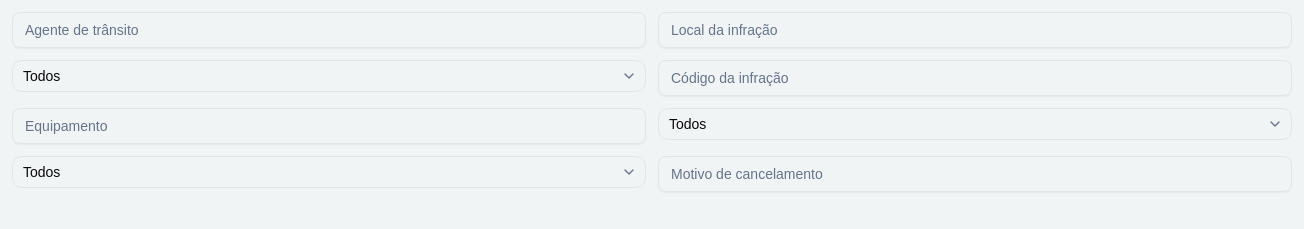
Test: FilterBar › fetches suggestions after 3 characters and applies filter only when a suggestion is selected
Type "Va" into the dropdown with placeholder "Agente de trânsito". click: (329, 30)
box: top-left (12, 12), bottom-right (646, 48)
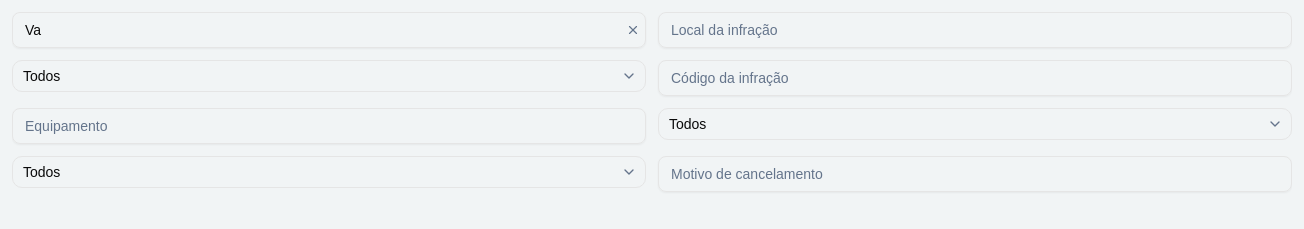
Replace the text in the dropdown with placeholder "Agente de trânsito" with "Van". click: (329, 30)
box: top-left (12, 12), bottom-right (646, 48)
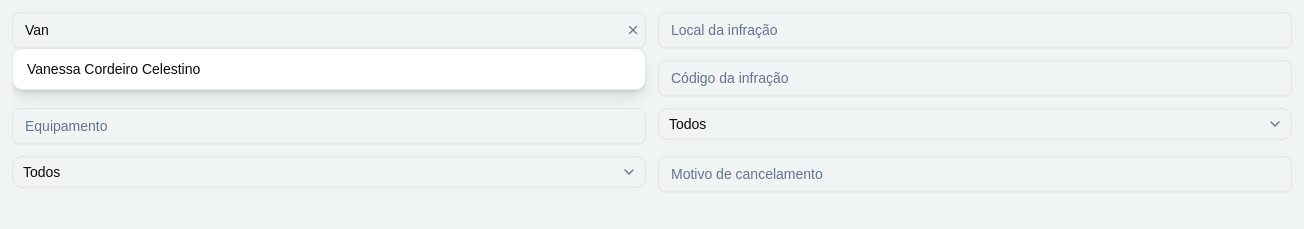
Press the mouse on the option "Vanessa Cordeiro Celestino" at (114, 69), box top-left (17, 53), bottom-right (641, 85)
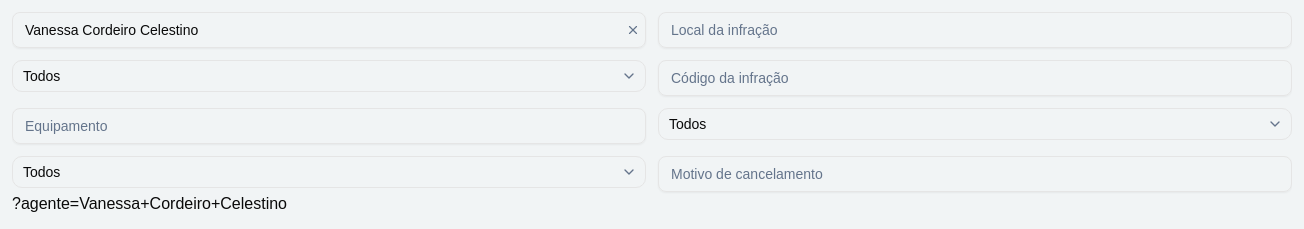
Expected: the text named "Busca atual" reads "?agente=Vanessa+Cordeiro+Celestino", top-left (12, 195), bottom-right (287, 212)
